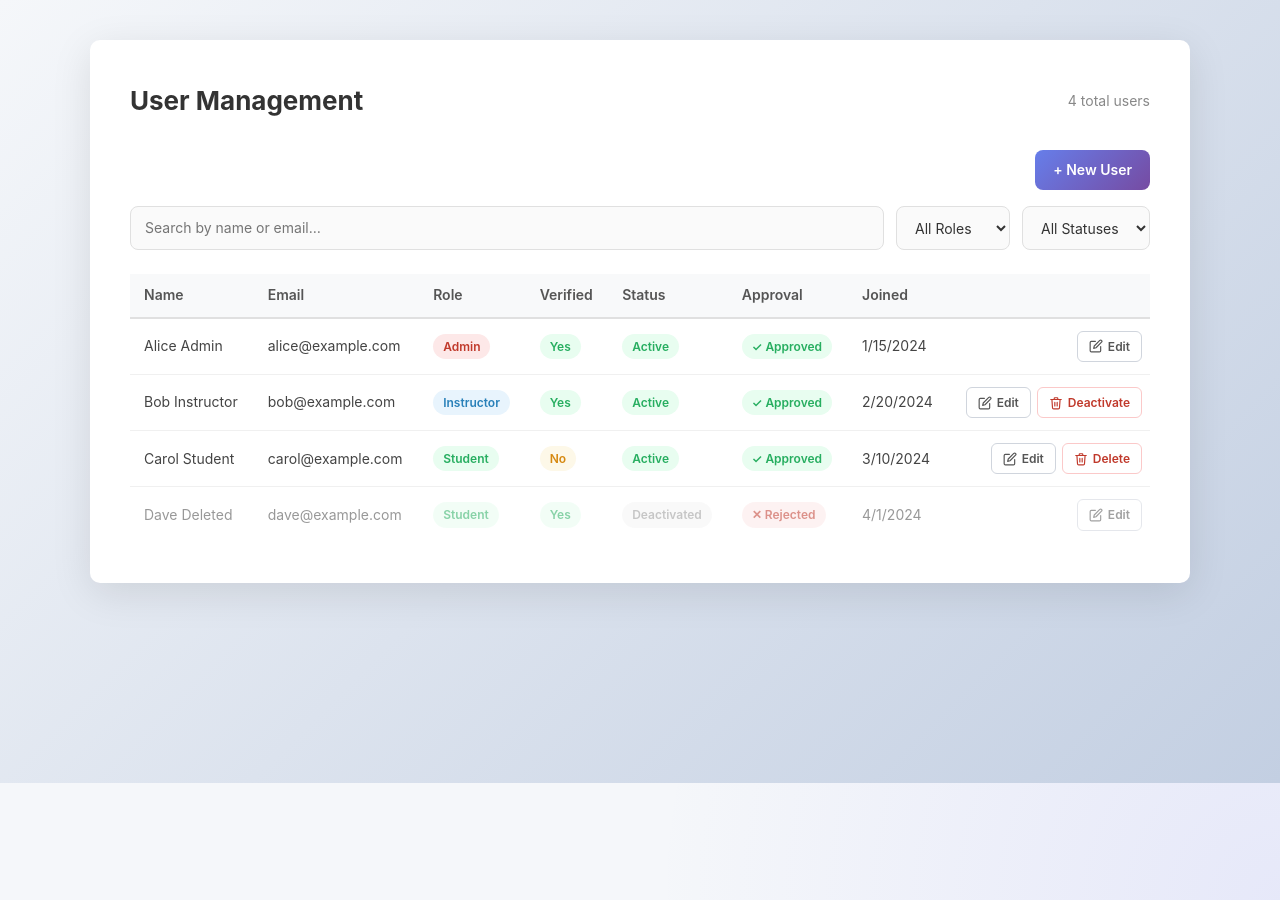
Scenario: UserList › role filter › filters to only students
expect the text "Alice Admin" is shown: met, box [130, 318, 254, 374]
Select "Student" in the dropdown named "filter by role" at (953,228), box [896, 206, 1010, 250]
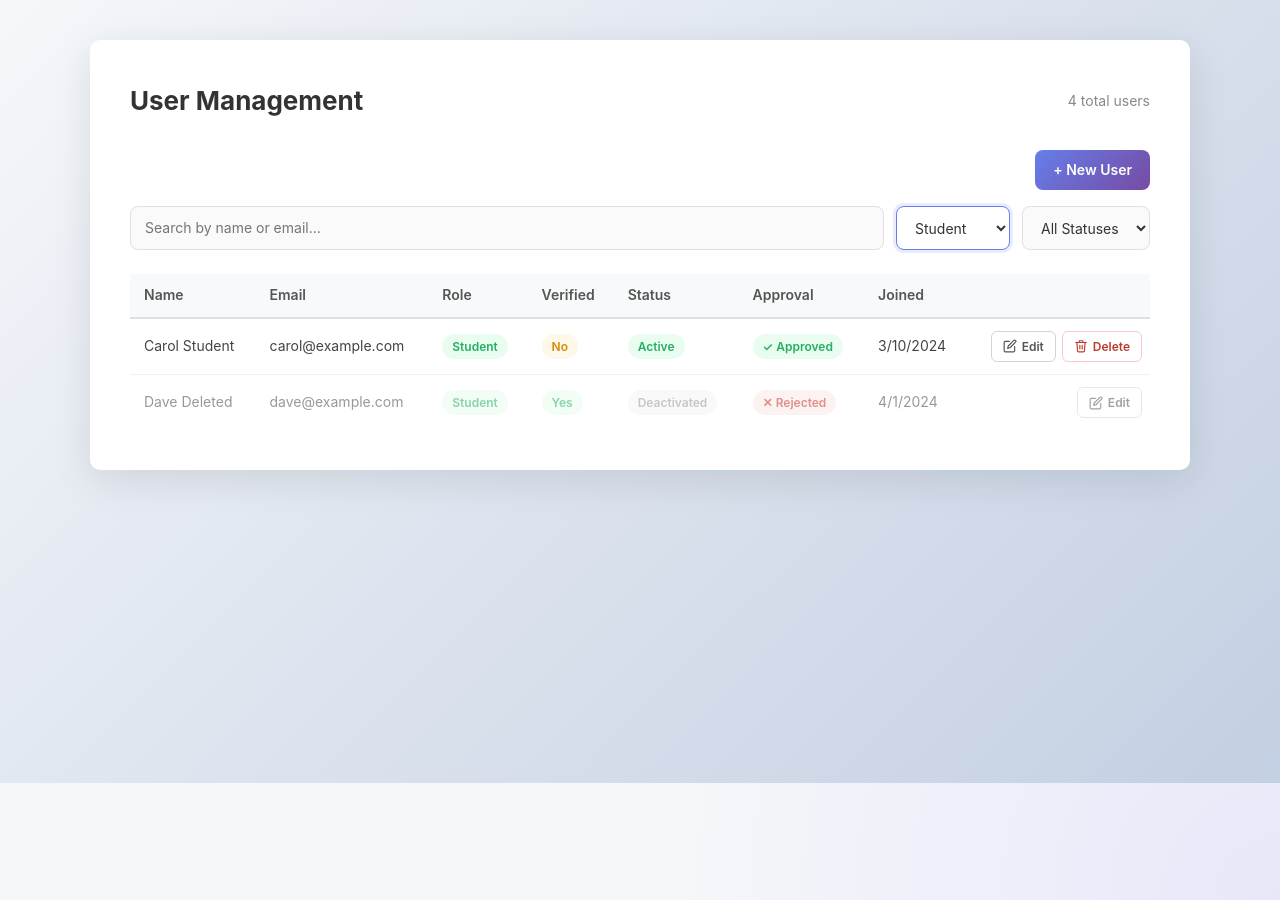
expect the text "Carol Student" is shown: met, box [130, 318, 256, 374]
expect the text "Alice Admin" is gone: met
